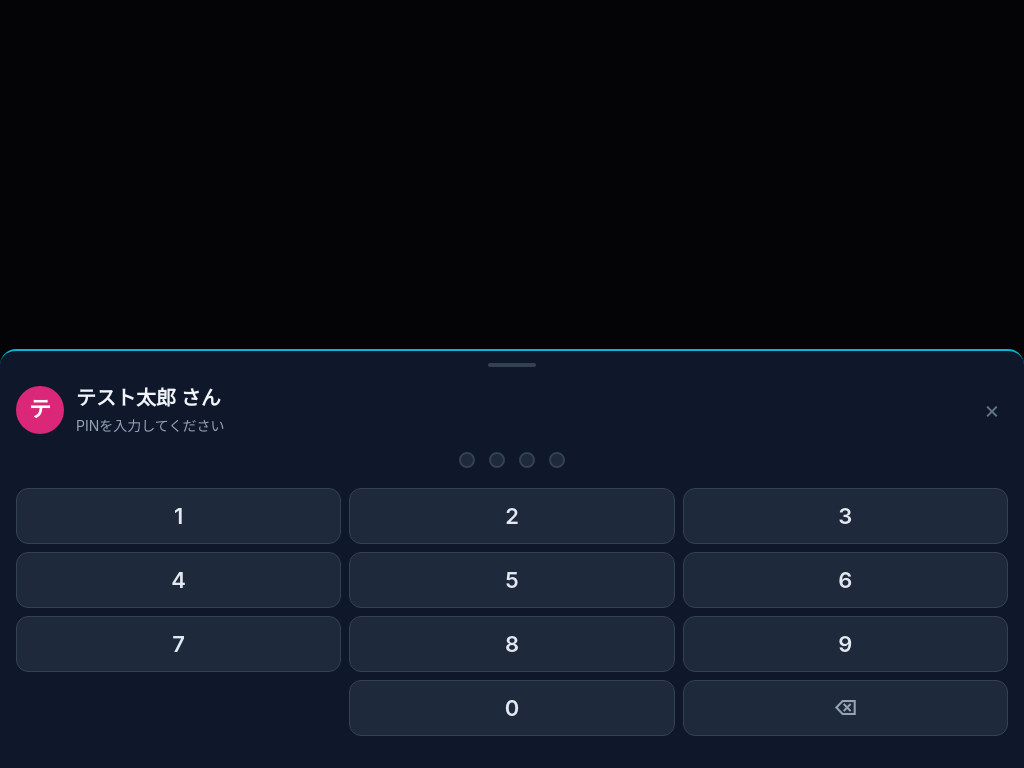
Test: SPEC-LOGIN-PIN-CLEAN-OPEN-01 PINシート初開クリーン表示 › when_wrong_pin_entered_should_show_error_message
This screenshot has width=1024, height=768.
Press the mouse on the button with test id "pin-key-1": (179, 516) top-left (16, 488), bottom-right (341, 544)
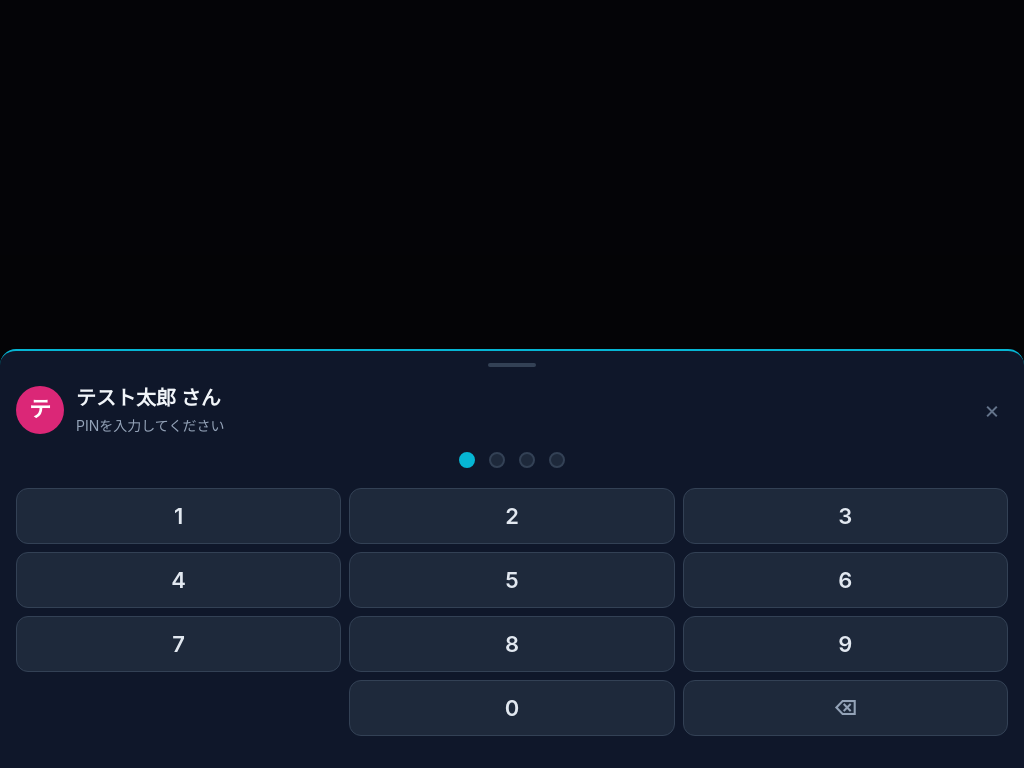
Press the mouse on the button "2": (512, 516) top-left (349, 488), bottom-right (675, 544)
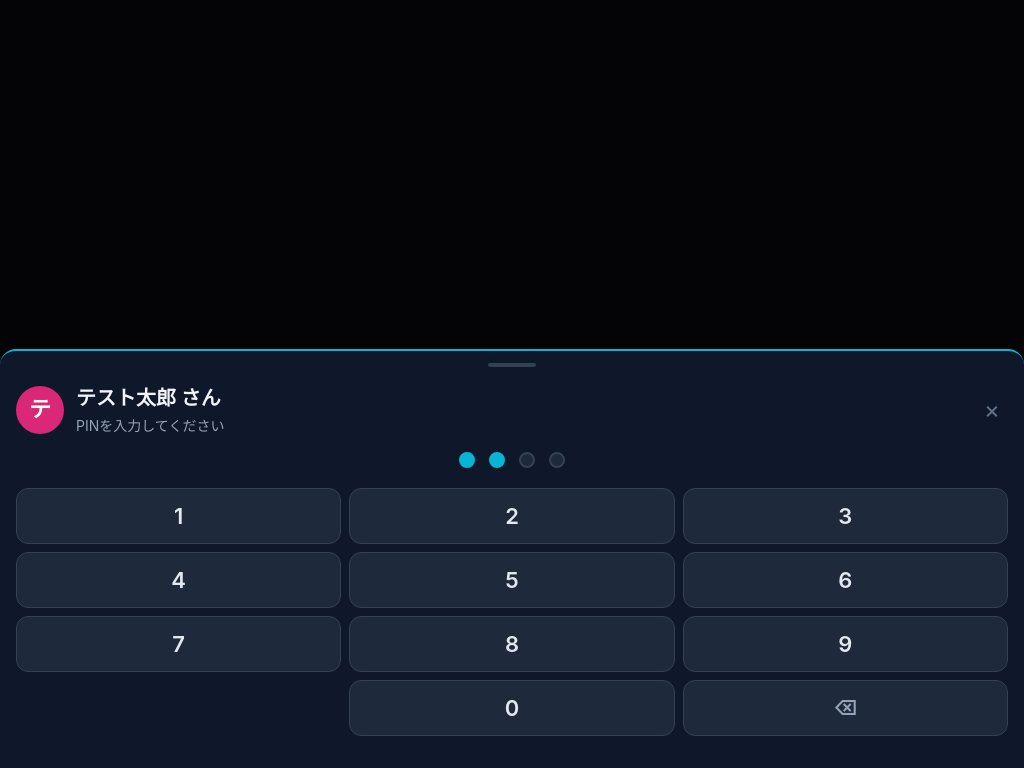
Press the mouse on the button "3": (845, 516) top-left (683, 488), bottom-right (1008, 544)
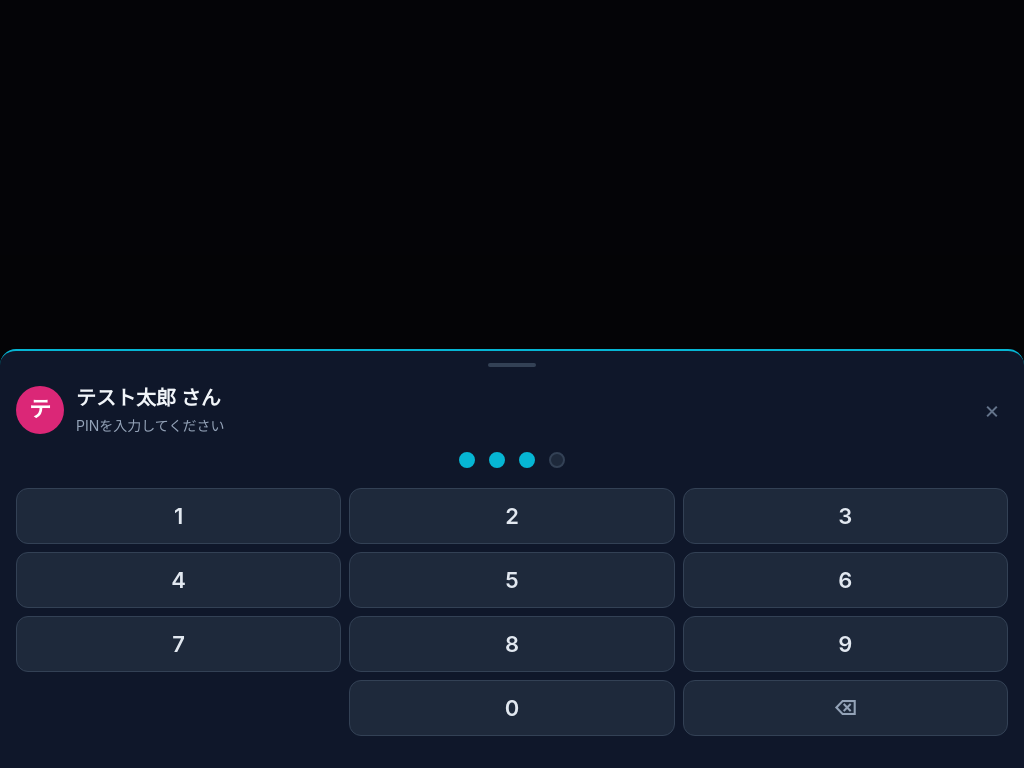
Press the mouse on the button "4": (179, 580) top-left (16, 552), bottom-right (341, 608)
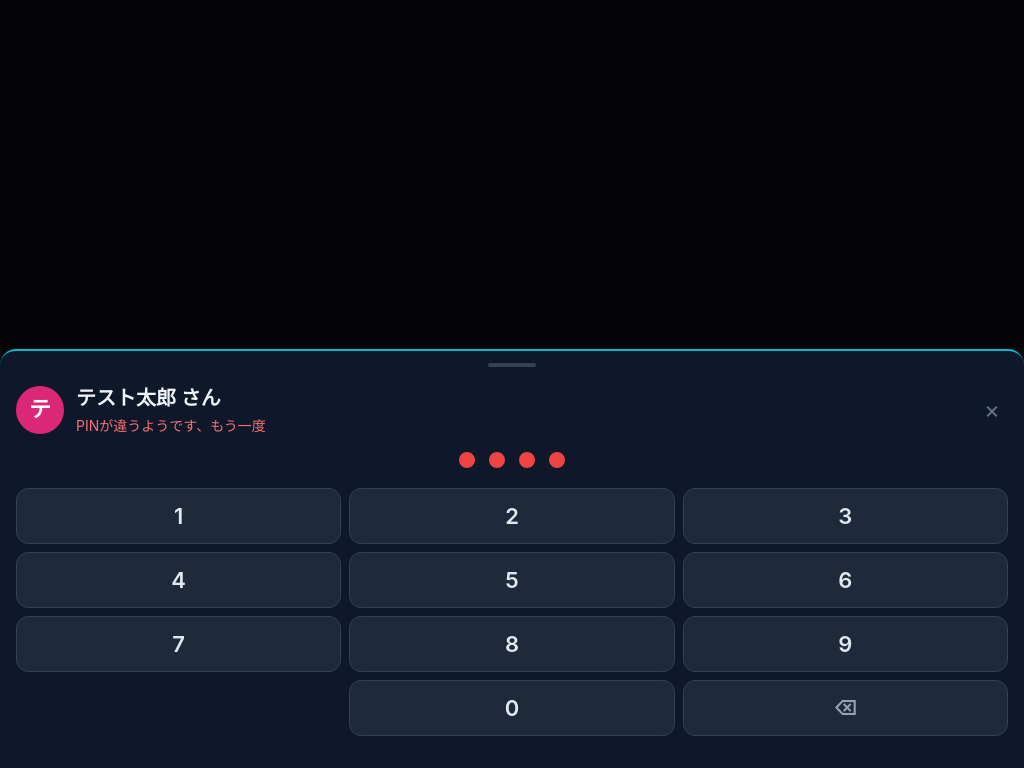
Expected: the text "PINが違うようです、もう一度" is shown, top-left (76, 417), bottom-right (266, 434)
